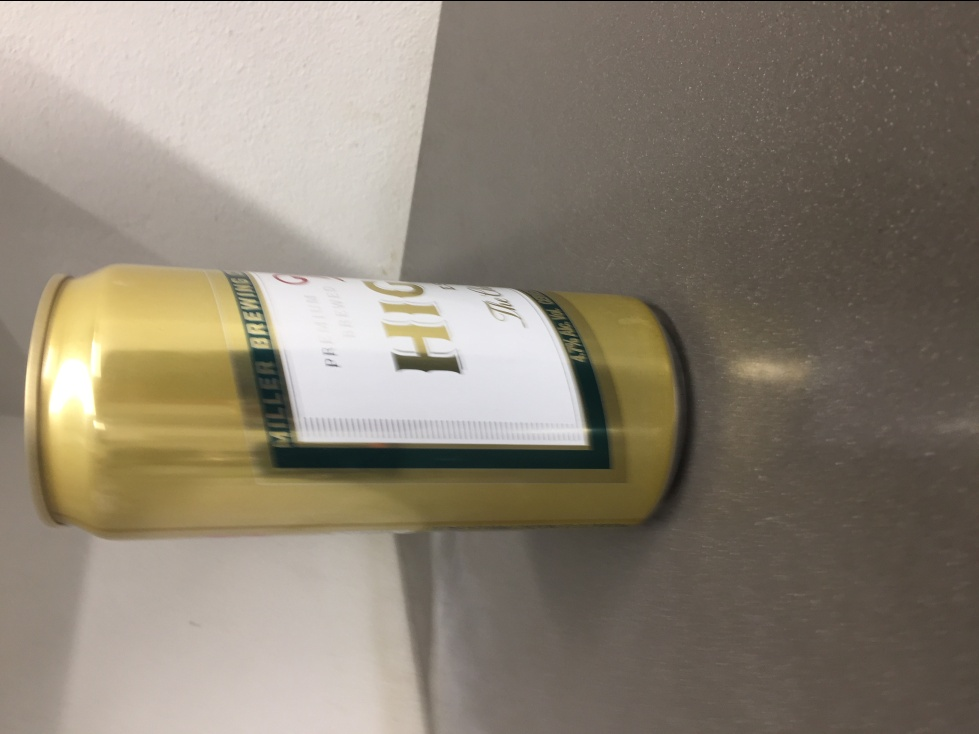miller: (18, 257, 688, 536)
